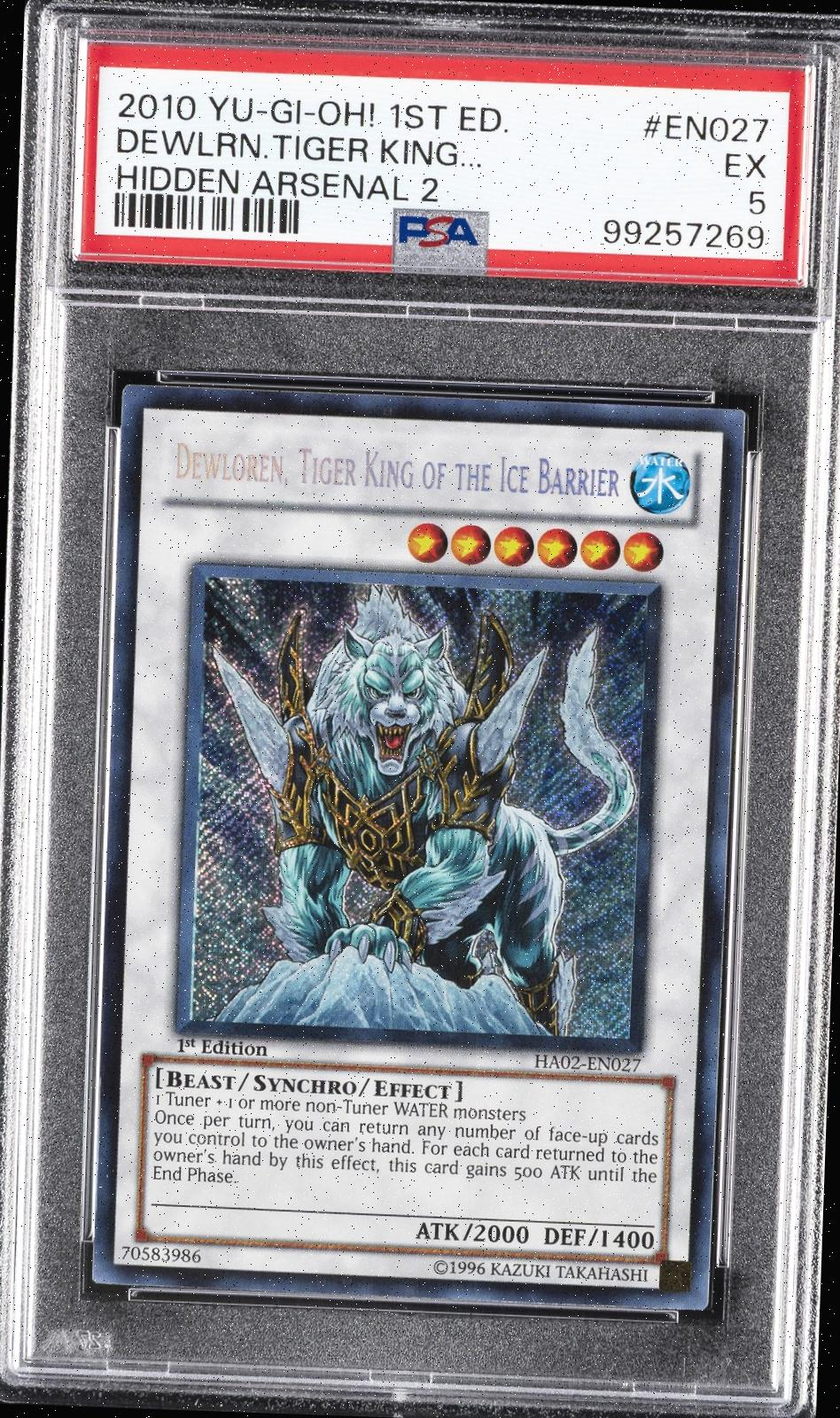card-2UtV: (91, 384, 745, 1311)
